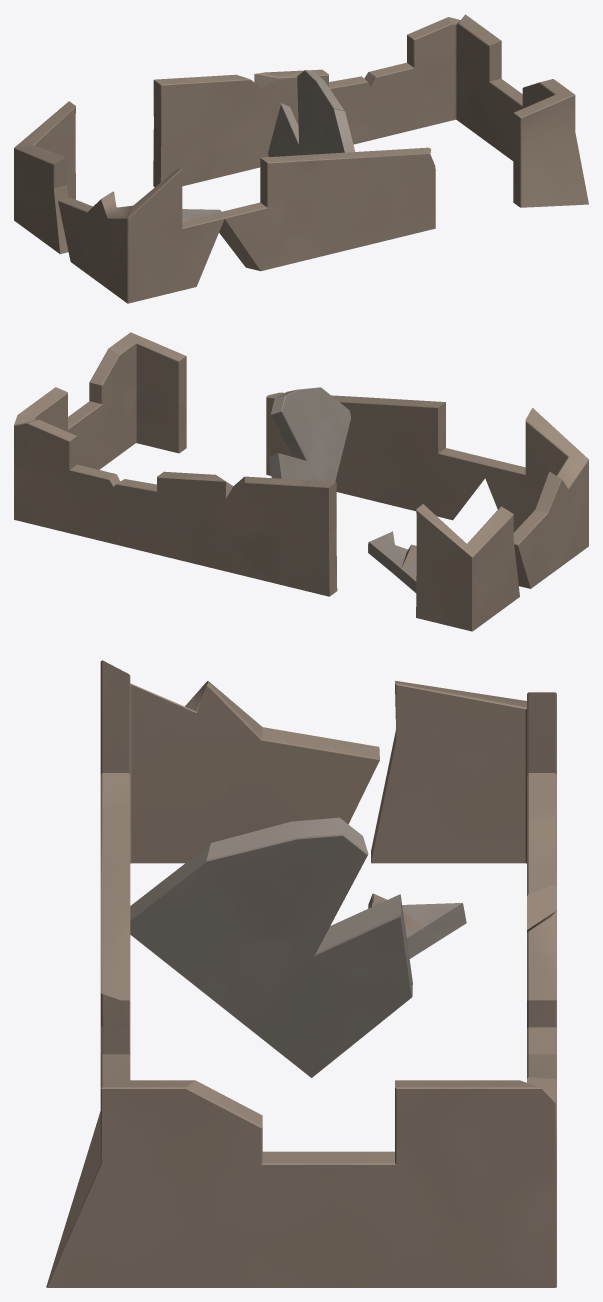
Rendered from AB_House_1.fbx.
The picture shows the model from 3 angles, top to bottom: view 1: azimuth 30°, elevation 25°; view 2: azimuth 150°, elevation 25°; view 3: azimuth 270°, elevation 25°; orthographic projection. The views are drawn at different scales.
Parts seen in each view (by area): view 1: AB_House_1; view 2: AB_House_1; view 3: AB_House_1.
Boxes of the visible parts, left/top/right/bottom form: AB_House_1: left=14, top=14, right=588, bottom=303; AB_House_1: left=14, top=332, right=588, bottom=631; AB_House_1: left=46, top=660, right=556, bottom=1287.
Bounding box in the file's own units: 32.62 × 9.68 × 16.1.
